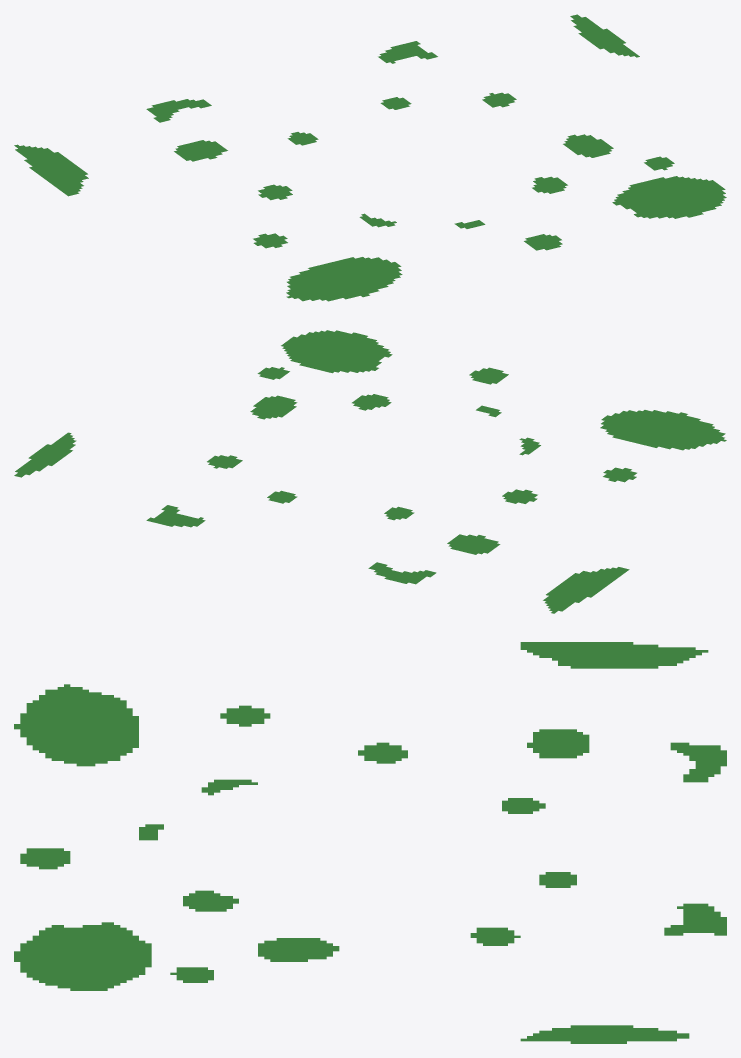
Rendered from Map-4-TreesArea.fbx.
The picture shows the model from 3 angles, top to bottom: view 1: azimuth 30°, elevation 25°; view 2: azimuth 150°, elevation 25°; view 3: azimuth 270°, elevation 25°; orthographic projection. The views are drawn at different scales.
Parts seen in each view (by area): view 1: Map-4-TreesArea; view 2: Map-4-TreesArea; view 3: Map-4-TreesArea.
Part boxes in pixels (box(x1,y1,x2,y2)): Map-4-TreesArea: box(14, 14, 726, 301); Map-4-TreesArea: box(14, 330, 726, 613); Map-4-TreesArea: box(14, 642, 726, 1043).
Size of the model in its own units: 152 by 0 by 114.
